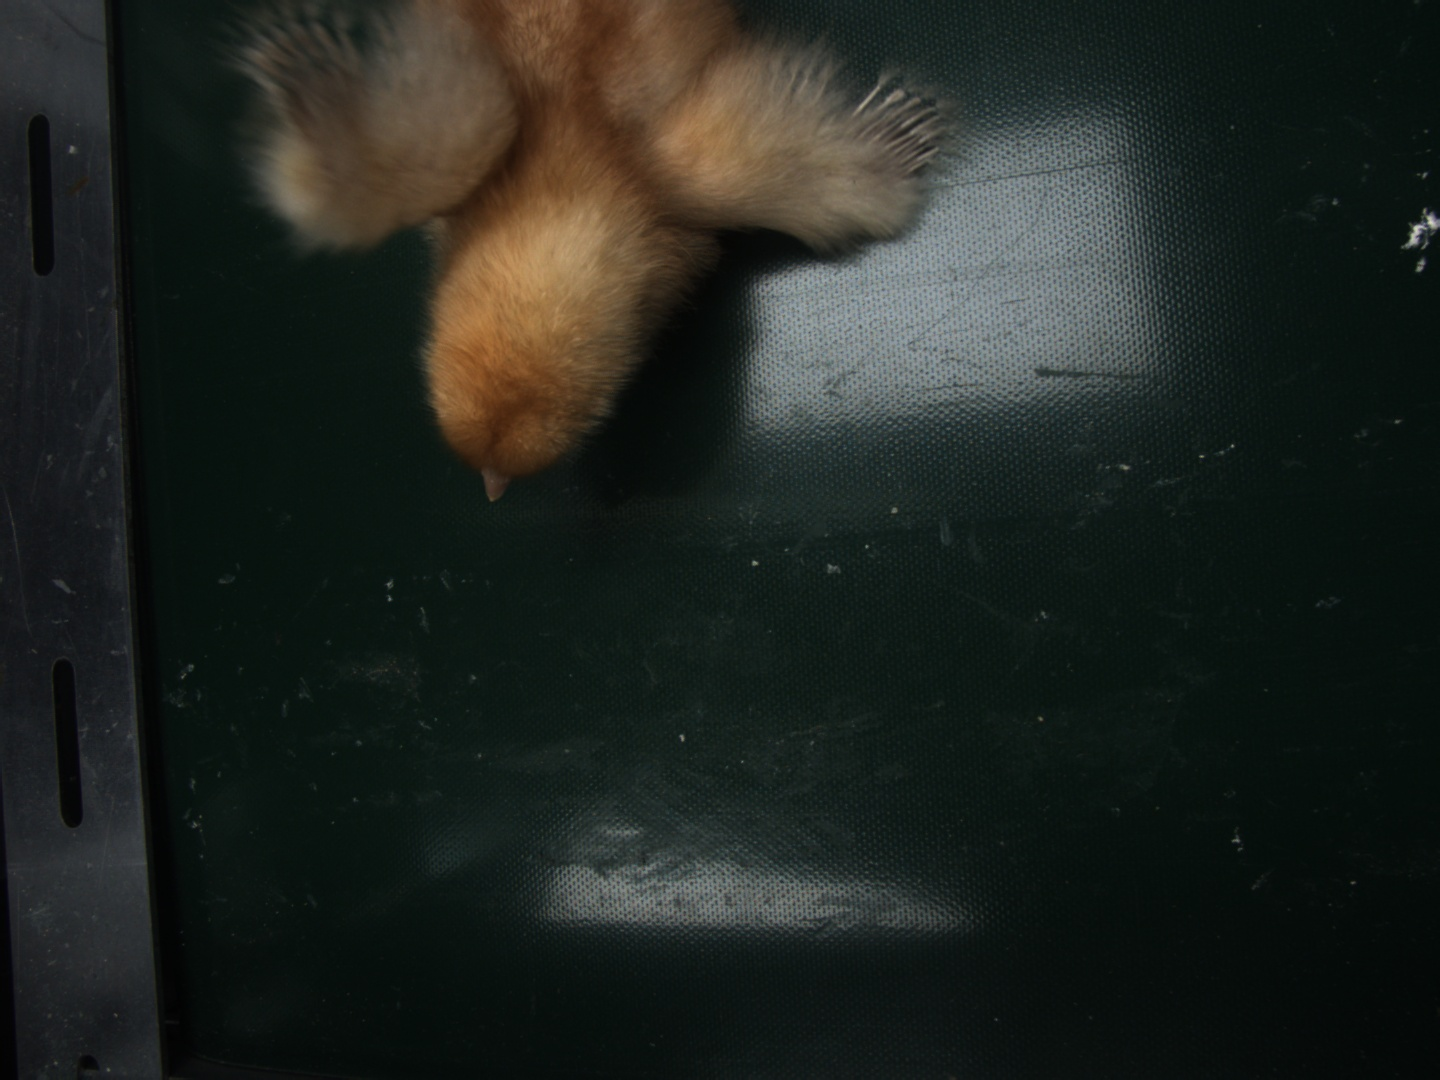female: (837, 83, 940, 182)
